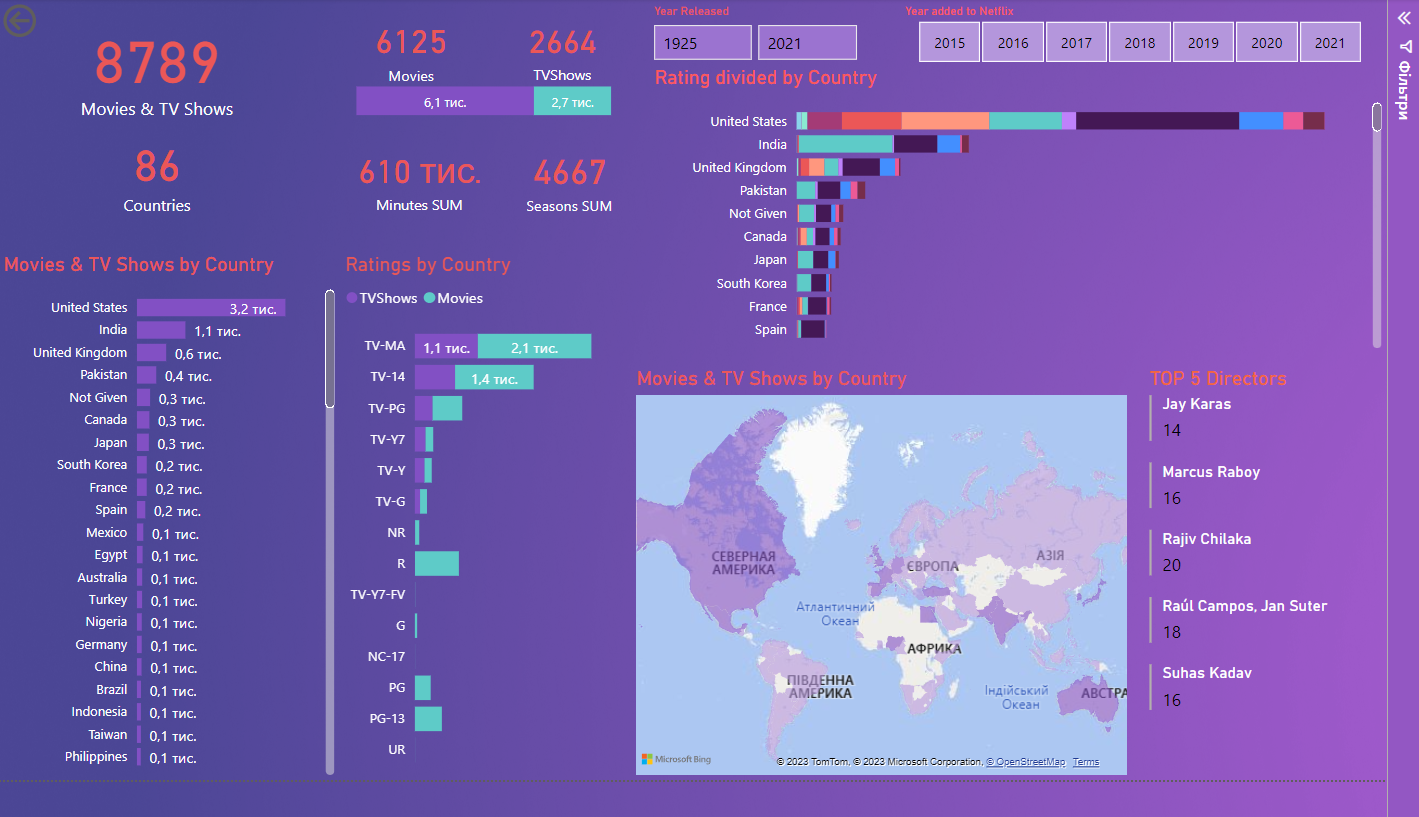

The page's visual inventory and layout, read from the dashboard file:
{"tool":"powerbi","page":{"name":"Сторінка 1","canvas":[1280,720],"ordinal":0},"visuals":[{"type":"card","fields":{"Values":["BaseMeasures.Country"]},"box":[0,8.9,292.6,105.5],"z":0},{"type":"card","fields":{"Values":["BaseMeasures.Countries"]},"box":[0,115.2,293,89.4],"z":1000},{"type":"barChart","title":"Movies & TV Shows by Country","fields":{"Category":["netflix.country"],"Y":["BaseMeasures.Movies & TV Shows"]},"box":[0,234.2,314.9,486],"z":2000},{"type":"card","fields":{"Values":["BaseMeasures.TVShows"]},"box":[453.4,0,132.7,92.2],"z":3000},{"type":"card","fields":{"Values":["BaseMeasures.TotalMovie Time"]},"box":[315.2,106,145.6,118.9],"z":4000},{"type":"card","fields":{"Values":["BaseMeasures.Total Seasons"]},"box":[457.1,106,139.2,118.9],"z":6000},{"type":"multiRowCard","title":"TOP 5 Directors","fields":{"Values":["netflix.director","BaseMeasures.Movies & TV Shows"]},"box":[1056.1,339.1,223.9,380.6],"z":7000},{"type":"actionButton","box":[0,0,100.1,39.8],"z":8000},{"type":"slicer","fields":{"Values":["netflix.date_added.Варіація.Ієрархія дат.Рік"]},"box":[822.9,0,457.1,64.5],"z":9000},{"type":"slicer","fields":{"Values":["netflix.release_year"]},"box":[591.6,0,215.6,81.1],"z":10000},{"type":"filledMap","title":"Movies & TV Shows by Country","fields":{"Category":["netflix.country"]},"box":[583.3,339.1,461.7,380.6],"z":11000},{"type":"barChart","title":"Ratings by Country","fields":{"Category":["netflix.rating"],"Y":["BaseMeasures.TVShows","BaseMeasures.Movies"]},"box":[314.9,234.2,277,486],"z":12000},{"type":"card","fields":{"Values":["BaseMeasures.Movies"]},"box":[296.7,0,167.7,92.2],"z":12500},{"type":"barChart","title":"Rating divided by Country","fields":{"Category":["netflix.country"],"Y":["BaseMeasures.RatingCount"],"Series":["netflix.rating"]},"box":[599.9,61.7,680.1,265.4],"z":13000},{"type":"barChart","fields":{"Y":["BaseMeasures.Movies","BaseMeasures.TVShows"]},"box":[325.3,32.3,277.4,117],"z":14000}]}

Visuals, with their boxes on the page's 1280x720 design canvas (x1, y1, x2, y2). These are canvas units, not pixel positions in the 1419x817 screenshot, which may show the page scaled, cropped or inside an application window:
card - BaseMeasures.Country: box(0, 9, 293, 114)
card - BaseMeasures.Countries: box(0, 115, 293, 205)
"Movies & TV Shows by Country" barChart: box(0, 234, 315, 720)
card - BaseMeasures.TVShows: box(453, 0, 586, 92)
card - BaseMeasures.TotalMovie Time: box(315, 106, 461, 225)
card - BaseMeasures.Total Seasons: box(457, 106, 596, 225)
"TOP 5 Directors" multiRowCard: box(1056, 339, 1280, 720)
actionButton: box(0, 0, 100, 40)
slicer - netflix.date_added.Варіація.Ієрархія дат.Рік: box(823, 0, 1280, 64)
slicer - netflix.release_year: box(592, 0, 807, 81)
"Movies & TV Shows by Country" filledMap: box(583, 339, 1045, 720)
"Ratings by Country" barChart: box(315, 234, 592, 720)
card - BaseMeasures.Movies: box(297, 0, 464, 92)
"Rating divided by Country" barChart: box(600, 62, 1280, 327)
barChart - BaseMeasures.Movies x BaseMeasures.TVShows: box(325, 32, 603, 149)
